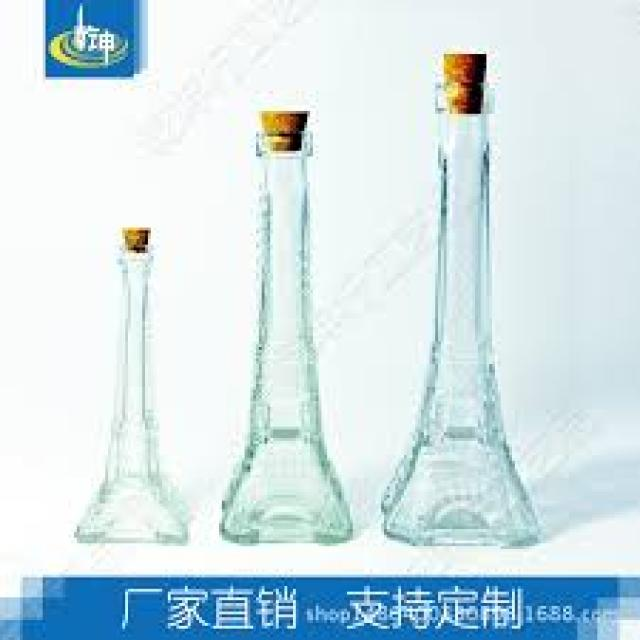glass: (381, 80, 541, 546), (219, 125, 350, 538), (68, 248, 185, 541)
